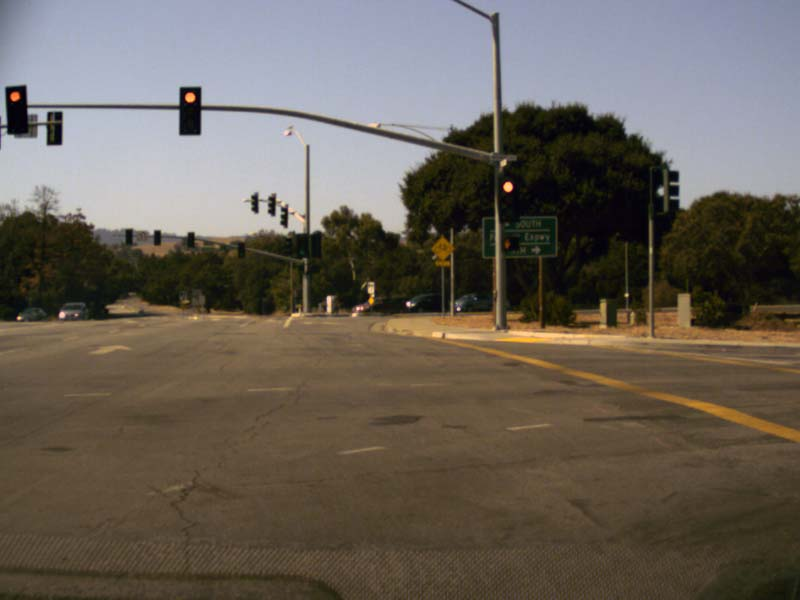Green: (236, 241, 243, 257)
Red: (180, 85, 198, 136), (7, 86, 25, 132), (500, 178, 517, 219)
